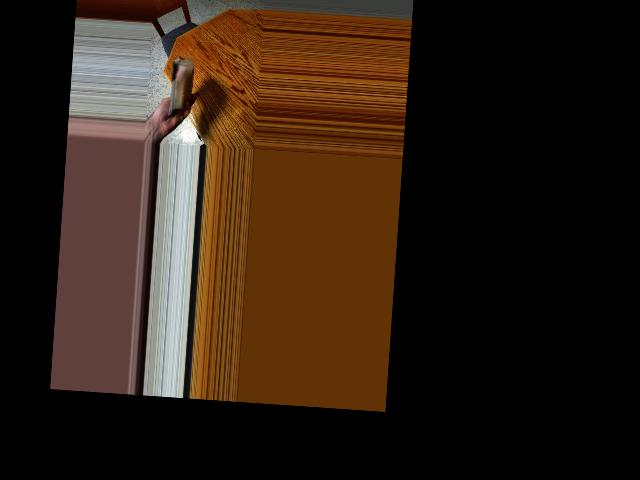cheese: (158, 60, 196, 113)
